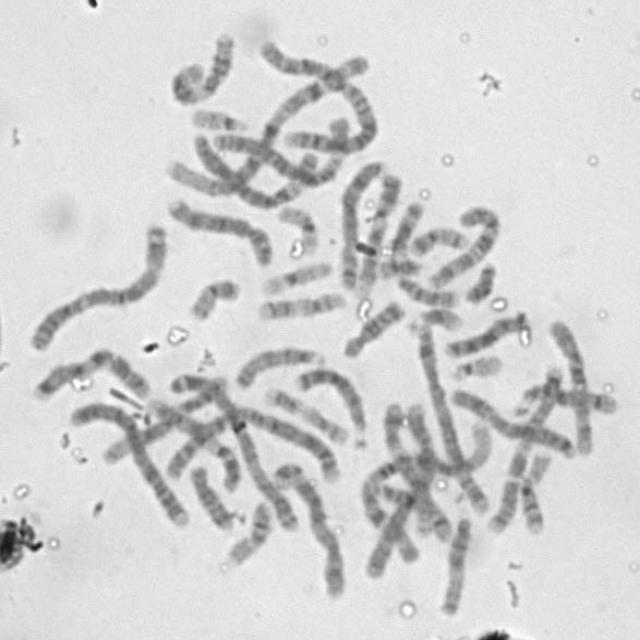A1: (162, 47, 374, 200), (359, 418, 498, 566)
A2: (152, 398, 348, 487), (255, 32, 382, 157)
A3: (171, 374, 304, 535), (24, 216, 171, 353)
B4: (67, 396, 194, 530), (360, 398, 435, 580)
B5: (410, 311, 492, 518), (266, 454, 346, 602)
C10: (543, 313, 597, 457), (424, 201, 505, 290)
C11: (393, 199, 459, 310), (166, 27, 238, 107)
C12: (97, 371, 231, 467), (377, 406, 460, 542)
C6: (190, 130, 320, 210), (210, 127, 342, 189)
C7: (480, 363, 572, 542), (27, 343, 156, 402)
C8: (160, 191, 275, 269), (333, 154, 387, 292)
C9: (141, 392, 243, 494), (351, 168, 403, 292)
D13: (290, 362, 372, 451), (441, 308, 532, 361)
D14: (368, 479, 453, 543), (505, 378, 619, 419)
D15: (230, 341, 327, 392), (434, 511, 474, 618)
E16: (223, 497, 274, 567), (516, 447, 554, 537)
E17: (260, 381, 354, 447), (252, 286, 349, 323)
E18: (339, 294, 408, 360), (184, 458, 238, 533)
F19: (256, 255, 335, 298), (272, 200, 322, 257)
F20: (183, 272, 243, 322), (406, 221, 471, 258)
G21: (406, 304, 464, 336), (371, 258, 424, 283)
G22: (185, 102, 251, 134), (446, 349, 505, 383)
X: (445, 383, 578, 460)
Y: (460, 257, 499, 305)
